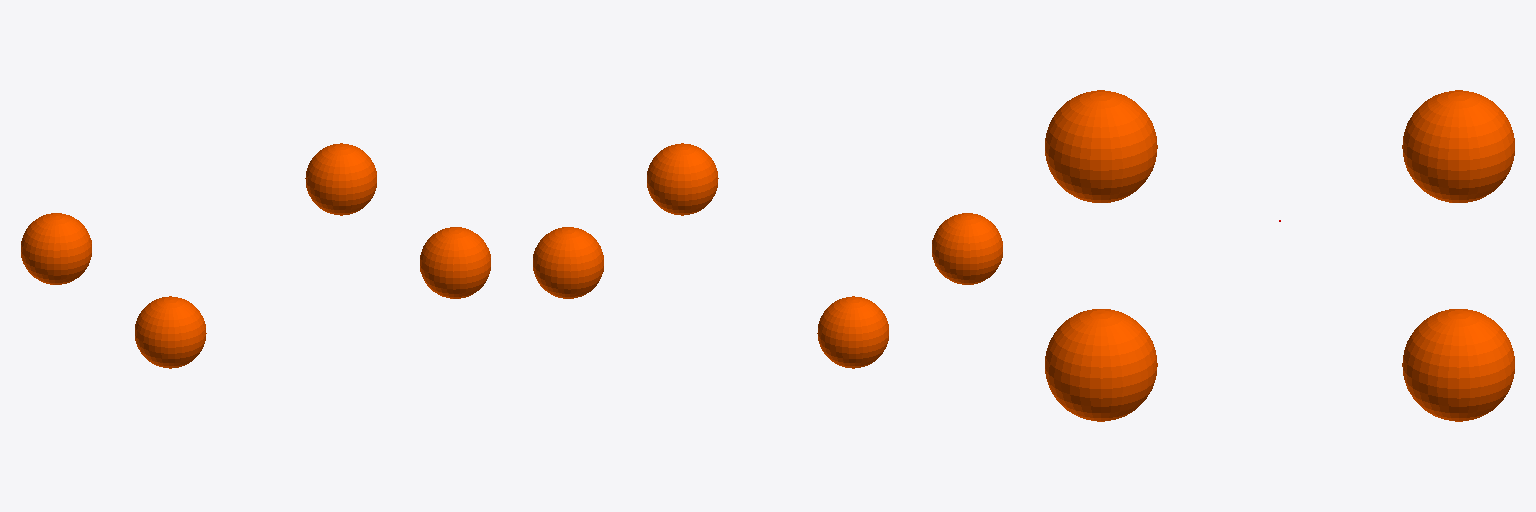
robot.urdf — youbot:
<?xml version="1.0" ?>
<!-- =================================================================================== -->
<!-- |    This document was autogenerated by xacro from robots/youbot_base_only.urdf.xacro | -->
<!-- |    EDITING THIS FILE BY HAND IS NOT RECOMMENDED                                 | -->
<!-- =================================================================================== -->
<robot name="youbot" xmlns:controller="http://playerstage.sourceforge.net/gazebo/xmlschema/#controller" xmlns:interface="http://playerstage.sourceforge.net/gazebo/xmlschema/#interface" xmlns:sensor="http://playerstage.sourceforge.net/gazebo/xmlschema/#sensor" xmlns:xacro="http://playerstage.sourceforge.net/gazebo/xmlschema/#interface">
  <!--property name="" value="0.360" /-->
  <gazebo>
    <plugin filename="libgazebo_ros_control.so" name="gazebo_ros_controller"/>
  </gazebo>
  <material name="Orange">
    <color rgba="1.0 0.4 0.0 1.0"/>
  </material>
  <material name="Grey">
    <color rgba="0.7 0.7 0.7 1.0"/>
  </material>
  <material name="DarkGrey">
    <color rgba="0.3 0.3 0.3 1.0"/>
  </material>
  <material name="White">
    <color rgba="1.0 1.0 1.0 1.0"/>
  </material>
  <material name="Black">
    <color rgba="0.0 0.0 0.0 1.0"/>
  </material>
  <material name="Red">
    <color rgba="1.0 0.0 0.0 1.0"/>
  </material>
  <material name="Green">
    <color rgba="0.0 1.0 0.0 1.0"/>
  </material>
  <material name="Blue">
    <color rgba="0.0 0.0 0.8 1.0"/>
  </material>
  <material name="LightGrey">
    <color rgba="0.82 0.82 0.82 1.0"/>
  </material>
  <!-- Now we can start using the macros xacro:included above to define the actual youbot -->
  <!-- The first use of a macro.  This one was defined in base.urdf.xacro above.
       A macro like this will expand to a set of link and joint definitions, and to additional
       Gazebo-related extensions (sensor plugins, etc).  The macro takes an argument, name, 
       that equals "base", and uses it to generate names for its component links and joints 
       (e.g., base_link).  The xacro:included origin block is also an argument to the macro.  By convention, 
       the origin block defines where the component is w.r.t its parent (in this case the parent 
       is the world frame). For more, see http://www.ros.org/wiki/xacro -->
  <link name="base_footprint">
    <inertial>
      <mass value="0.1"/>
      <origin rpy="0 0 0" xyz="0 0 -0.05"/>
      <inertia ixx="1.0" ixy="0.0" ixz="0.0" iyy="1.0" iyz="0.0" izz="1.0"/>
    </inertial>
    <visual>
      <origin rpy="0 0 0" xyz="0 0 0"/>
      <geometry>
        <box size="0.001 0.001 0.001"/>
      </geometry>
      <material name="Red"/>
    </visual>
    <collision>
      <origin rpy="0 0 0" xyz="0 0 -0.05"/>
      <geometry>
        <box size="0.001 0.001 0.001"/>
      </geometry>
    </collision>
  </link>
  <joint name="base_footprint_joint" type="fixed">
    <origin rpy="0 0 0" xyz="0 0 0"/>
    <child link="base_link"/>
    <parent link="base_footprint"/>
  </joint>
  <link name="base_link">
    <inertial>
      <mass value="22.0"/>
      <origin xyz="0 0 0"/>
      <inertia ixx="5.652232699207" ixy="-0.009719934438" ixz="1.293988226423" iyy="5.669473158652" iyz="-0.007379583694" izz="3.683196351726"/>
    </inertial>
    <visual>
      <origin rpy="0 0 0" xyz="0 0 0"/>
      <geometry>
        <mesh filename="meshes/youbot_base/base.dae"/>
      </geometry>
      <material name="DarkGrey"/>
    </visual>
    <collision>
      <origin rpy="0 0 0" xyz="0 0 0"/>
      <geometry>
        <!--<box size="${base_size_x} ${base_size_y} ${base_size_z}" />-->
        <mesh filename="meshes/youbot_base/base_convex.dae"/>
      </geometry>
    </collision>
  </link>
  <!-- front left wheel -->
  <joint name="caster_joint_fl" type="continuous">
    <origin rpy="0 0 0" xyz="0.228 0.158 -0.034"/>
    <axis xyz="0 0 1"/>
    <limit effort="30" velocity="10"/>
    <dynamics damping="1.0" friction="1.0"/>
    <safety_controller k_velocity="10.0"/>
    <parent link="base_link"/>
    <child link="caster_link_fl"/>
  </joint>
  <link name="caster_link_fl">
    <inertial>
      <mass value="0.1"/>
      <origin xyz="0 0 0"/>
      <inertia ixx="0.012411765597" ixy="-0.000711733678" ixz="0.00050272983" iyy="0.015218160428" iyz="-0.000004273467" izz="0.011763977943"/>
    </inertial>
  </link>
  <joint name="wheel_joint_fl" type="continuous">
    <axis xyz="0 1 0"/>
    <limit effort="30" velocity="10"/>
    <origin rpy="0 0 0" xyz="0.0 0.0 0.0"/>
    <parent link="caster_link_fl"/>
    <dynamics damping="1.0" friction="1.0"/>
    <safety_controller k_velocity="10.0"/>
    <child link="wheel_link_fl"/>
  </joint>
  <link name="wheel_link_fl">
    <inertial>
      <mass value="0.4"/>
      <origin xyz="0 0 0"/>
      <inertia ixx="0.012411765597" ixy="-0.000711733678" ixz="0.00050272983" iyy="0.015218160428" iyz="-0.000004273467" izz="0.011763977943"/>
    </inertial>
    <visual>
      <origin rpy="0 0 0" xyz="0 0 0"/>
      <!--<mesh filename="meshes/youbot_base/youbot_wheel.stl" />-->
      <geometry>
        <sphere radius="0.05"/>
      </geometry>
      <material name="Orange"/>
    </visual>
    <collision>
      <origin rpy="1.57079632679 0 0" xyz="0 0 0"/>
      <geometry>
        <cylinder length="0.05" radius="0.05"/>
      </geometry>
    </collision>
  </link>
  <!-- front right wheel -->
  <joint name="caster_joint_fr" type="continuous">
    <origin rpy="0 0 0" xyz="0.228 -0.158 -0.034"/>
    <axis xyz="0 0 1"/>
    <limit effort="30" velocity="10"/>
    <dynamics damping="1.0" friction="1.0"/>
    <safety_controller k_velocity="10.0"/>
    <parent link="base_link"/>
    <child link="caster_link_fr"/>
  </joint>
  <link name="caster_link_fr">
    <inertial>
      <mass value="0.1"/>
      <origin xyz="0 0 0"/>
      <inertia ixx="0.012411765597" ixy="-0.000711733678" ixz="0.00050272983" iyy="0.015218160428" iyz="-0.000004273467" izz="0.011763977943"/>
    </inertial>
  </link>
  <joint name="wheel_joint_fr" type="continuous">
    <axis xyz="0 1 0"/>
    <limit effort="30" velocity="10"/>
    <dynamics damping="1.0" friction="1.0"/>
    <safety_controller k_velocity="10.0"/>
    <origin rpy="0 0 0" xyz="0.0 0.0 0.0"/>
    <parent link="caster_link_fr"/>
    <child link="wheel_link_fr"/>
  </joint>
  <link name="wheel_link_fr">
    <inertial>
      <mass value="0.4"/>
      <origin xyz="0 0 0"/>
      <inertia ixx="0.012411765597" ixy="-0.000711733678" ixz="0.00050272983" iyy="0.015218160428" iyz="-0.000004273467" izz="0.011763977943"/>
    </inertial>
    <visual>
      <origin rpy="0 0 0" xyz="0 0 0"/>
      <geometry>
        <!--<mesh filename="meshes/youbot_base/youbot_wheel.stl" />-->
        <sphere radius="0.05"/>
      </geometry>
      <material name="Orange"/>
    </visual>
    <collision>
      <origin rpy="1.57079632679 0 0" xyz="0 0 0"/>
      <geometry>
        <cylinder length="0.05" radius="0.05"/>
      </geometry>
    </collision>
  </link>
  <!-- back left wheel -->
  <joint name="caster_joint_bl" type="continuous">
    <origin rpy="0 0 0" xyz="-0.228 0.158 -0.034"/>
    <axis xyz="0 0 1"/>
    <limit effort="30" velocity="10"/>
    <dynamics damping="1.0" friction="1.0"/>
    <safety_controller k_velocity="10.0"/>
    <parent link="base_link"/>
    <child link="caster_link_bl"/>
  </joint>
  <link name="caster_link_bl">
    <inertial>
      <mass value="0.1"/>
      <origin xyz="0 0 0"/>
      <inertia ixx="0.012411765597" ixy="-0.000711733678" ixz="0.00050272983" iyy="0.015218160428" iyz="-0.000004273467" izz="0.011763977943"/>
    </inertial>
  </link>
  <joint name="wheel_joint_bl" type="continuous">
    <axis xyz="0 1 0"/>
    <limit effort="10" velocity="10"/>
    <limit effort="30" velocity="10"/>
    <dynamics damping="1.0" friction="1.0"/>
    <safety_controller k_velocity="10.0"/>
    <origin rpy="0 0 0" xyz="0.0 0.0 0.0"/>
    <parent link="caster_link_bl"/>
    <child link="wheel_link_bl"/>
  </joint>
  <link name="wheel_link_bl">
    <inertial>
      <mass value="0.4"/>
      <origin xyz="0 0 0"/>
      <inertia ixx="0.012411765597" ixy="-0.000711733678" ixz="0.00050272983" iyy="0.015218160428" iyz="-0.000004273467" izz="0.011763977943"/>
    </inertial>
    <visual>
      <origin rpy="0 0 0" xyz="0 0 0"/>
      <geometry>
        <!--<mesh filename="meshes/youbot_base/youbot_wheel.stl" />-->
        <sphere radius="0.05"/>
      </geometry>
      <material name="Orange"/>
    </visual>
    <collision>
      <origin rpy="1.57079632679 0 0" xyz="0 0 0"/>
      <geometry>
        <cylinder length="0.05" radius="0.05"/>
      </geometry>
    </collision>
  </link>
  <!-- back right wheel -->
  <joint name="caster_joint_br" type="continuous">
    <origin rpy="0 0 0" xyz="-0.228 -0.158 -0.034"/>
    <axis xyz="0 0 1"/>
    <limit effort="30" velocity="10"/>
    <dynamics damping="1.0" friction="1.0"/>
    <safety_controller k_velocity="10.0"/>
    <parent link="base_link"/>
    <child link="caster_link_br"/>
  </joint>
  <link name="caster_link_br">
    <inertial>
      <mass value="0.1"/>
      <origin xyz="0 0 0"/>
      <inertia ixx="0.012411765597" ixy="-0.000711733678" ixz="0.00050272983" iyy="0.015218160428" iyz="-0.000004273467" izz="0.011763977943"/>
    </inertial>
  </link>
  <joint name="wheel_joint_br" type="continuous">
    <axis xyz="0 1 0"/>
    <limit effort="30" velocity="10"/>
    <dynamics damping="1.0" friction="1.0"/>
    <safety_controller k_velocity="10.0"/>
    <origin rpy="0 0 0" xyz="0.0 0.0 0.0"/>
    <parent link="caster_link_br"/>
    <child link="wheel_link_br"/>
  </joint>
  <link name="wheel_link_br">
    <inertial>
      <mass value="0.4"/>
      <origin xyz="0 0 0"/>
      <inertia ixx="0.012411765597" ixy="-0.000711733678" ixz="0.00050272983" iyy="0.015218160428" iyz="-0.000004273467" izz="0.011763977943"/>
    </inertial>
    <visual>
      <origin rpy="0 0 0" xyz="0 0 0"/>
      <geometry>
        <!--<mesh filename="meshes/youbot_base/youbot_wheel.stl" />-->
        <sphere radius="0.05"/>
      </geometry>
      <material name="Orange"/>
    </visual>
    <collision>
      <origin rpy="1.57079632679 0 0" xyz="0 0 0"/>
      <geometry>
        <cylinder length="0.05" radius="0.05"/>
      </geometry>
    </collision>
  </link>
  <gazebo reference="youbot_base">
    <material value="youbot/DarkGrey"/>
  </gazebo>
  <!-- front left wheel -->
  <gazebo reference="wheel_link_fl">
    <material value="youbot/Orange"/>
    <kp>1000000</kp>
    <kd>100</kd>
  </gazebo>
  <gazebo reference="caster_link_fl">
    <material value="youbot/Orange"/>
  </gazebo>
  <!-- front right wheel -->
  <gazebo reference="wheel_link_fr">
    <material value="youbot/Orange"/>
    <kp>1000000</kp>
    <kd>100</kd>
  </gazebo>
  <gazebo reference="caster_link_fr">
    <material value="youbot/Orange"/>
  </gazebo>
  <!-- back left wheel -->
  <gazebo reference="wheel_link_bl">
    <material value="youbot/Orange"/>
    <kp>1000000</kp>
    <kd>100</kd>
  </gazebo>
  <gazebo reference="caster_link_bl">
    <material value="youbot/Orange"/>
  </gazebo>
  <!-- back right wheel -->
  <gazebo reference="wheel_link_br">
    <material value="youbot/Orange"/>
    <kp>1000000</kp>
    <kd>100</kd>
  </gazebo>
  <gazebo reference="caster_link_br">
    <material value="youbot/Orange"/>
  </gazebo>
  <!-- position controller -->
  <gazebo>
    <plugin filename="libgazebo_ros_planar_move.so" name="base_controller">
      <commandTopic>cmd_vel</commandTopic>
      <odometryTopic>odom</odometryTopic>
      <odometryFrame>odom</odometryFrame>
      <odometryRate>100.0</odometryRate>
      <robotBaseFrame>base_footprint</robotBaseFrame>
    </plugin>
  </gazebo>
  <!-- front left wheel -->
  <transmission name="wheel_trans_fl">
    <type>transmission_interface/SimpleTransmission</type>
    <actuator name="wheel_motor_fl">
      <hardwareInterface>VelocityJointInterface</hardwareInterface>
      <mechanicalReduction>79.2380952381</mechanicalReduction>
    </actuator>
    <joint name="wheel_joint_fl">
      <hardwareInterface>VelocityJointInterface</hardwareInterface>
    </joint>
  </transmission>
  <transmission name="caster_trans_fl">
    <type>transmission_interface/SimpleTransmission</type>
    <actuator name="caster_motor_fl">
      <hardwareInterface>VelocityJointInterface</hardwareInterface>
      <mechanicalReduction>79.2380952381</mechanicalReduction>
    </actuator>
    <joint name="caster_joint_fl">
      <hardwareInterface>VelocityJointInterface</hardwareInterface>
    </joint>
  </transmission>
  <!-- front right wheel -->
  <transmission name="wheel_trans_fr">
    <type>transmission_interface/SimpleTransmission</type>
    <actuator name="wheel_motor_fr">
      <hardwareInterface>VelocityJointInterface</hardwareInterface>
      <mechanicalReduction>79.2380952381</mechanicalReduction>
    </actuator>
    <joint name="wheel_joint_fr">
      <hardwareInterface>VelocityJointInterface</hardwareInterface>
    </joint>
  </transmission>
  <transmission name="caster_trans_fr">
    <type>transmission_interface/SimpleTransmission</type>
    <actuator name="caster_motor_fr">
      <hardwareInterface>VelocityJointInterface</hardwareInterface>
      <mechanicalReduction>79.2380952381</mechanicalReduction>
    </actuator>
    <joint name="caster_joint_fr">
      <hardwareInterface>VelocityJointInterface</hardwareInterface>
    </joint>
  </transmission>
  <!-- back left wheel -->
  <transmission name="wheel_trans_bl">
    <type>transmission_interface/SimpleTransmission</type>
    <actuator name="wheel_motor_bl">
      <hardwareInterface>VelocityJointInterface</hardwareInterface>
      <mechanicalReduction>79.2380952381</mechanicalReduction>
    </actuator>
    <joint name="wheel_joint_bl">
      <hardwareInterface>VelocityJointInterface</hardwareInterface>
    </joint>
  </transmission>
  <transmission name="caster_trans_bl">
    <type>transmission_interface/SimpleTransmission</type>
    <actuator name="caster_motor_bl">
      <hardwareInterface>VelocityJointInterface</hardwareInterface>
      <mechanicalReduction>79.2380952381</mechanicalReduction>
    </actuator>
    <joint name="caster_joint_bl">
      <hardwareInterface>VelocityJointInterface</hardwareInterface>
    </joint>
  </transmission>
  <!-- back right wheel -->
  <transmission name="wheel_trans_br">
    <type>transmission_interface/SimpleTransmission</type>
    <actuator name="wheel_motor_br">
      <hardwareInterface>VelocityJointInterface</hardwareInterface>
      <mechanicalReduction>79.2380952381</mechanicalReduction>
    </actuator>
    <joint name="wheel_joint_br">
      <hardwareInterface>VelocityJointInterface</hardwareInterface>
    </joint>
  </transmission>
  <transmission name="caster_trans_br">
    <type>transmission_interface/SimpleTransmission</type>
    <actuator name="caster_motor_br">
      <hardwareInterface>VelocityJointInterface</hardwareInterface>
      <mechanicalReduction>79.2380952381</mechanicalReduction>
    </actuator>
    <joint name="caster_joint_br">
      <hardwareInterface>VelocityJointInterface</hardwareInterface>
    </joint>
  </transmission>
  <joint name="base_laser_front_hokuyo_urg04_laser_joint" type="fixed">
    <axis xyz="0 1 0"/>
    <origin rpy="0 0 0" xyz="0.3 0 -0.03"/>
    <parent link="base_link"/>
    <child link="base_laser_front_link"/>
  </joint>
  <link name="base_laser_front_link" type="laser">
    <inertial>
      <mass value="0.16"/>
      <origin rpy="0 0 0" xyz="0 0 0"/>
      <inertia ixx="0.1" ixy="0" ixz="0" iyy="0.1" iyz="0" izz="0.1"/>
    </inertial>
    <visual>
      <origin rpy="0 0 0" xyz="0 0 0"/>
      <geometry>
        <mesh filename="meshes/sensors/hokuyo.dae"/>
      </geometry>
      <material name="DarkGrey"/>
    </visual>
    <collision>
      <origin rpy="0 0 0" xyz="0 0 0"/>
      <geometry>
        <mesh filename="meshes/sensors/hokuyo_convex.dae"/>
      </geometry>
    </collision>
  </link>
  <gazebo reference="base_laser_front_link">
    <sensor name="base_laser_front" type="ray">
      <always_on>true</always_on>
      <update_rate>10</update_rate>
      <pose>0 0 0 0 0 0</pose>
      <visualize>false</visualize>
      <ray>
        <scan>
          <horizontal>
            <samples>150</samples>
            <resolution>1.0</resolution>
            <min_angle>-1.57</min_angle>
            <max_angle>1.57</max_angle>
          </horizontal>
        </scan>
        <range>
          <min>0.05</min>
          <max>5.6</max>
          <resolution>0.36</resolution>
        </range>
      </ray>
      <plugin filename="libgazebo_ros_laser.so" name="gazebo_ros_base_laser_front_controller">
        <gaussianNoise>0.005</gaussianNoise>
        <alwaysOn>true</alwaysOn>
        <updateRate>10</updateRate>
        <topicName>base_scan</topicName>
        <frameName>/base_laser_front_link</frameName>
      </plugin>
    </sensor>
  </gazebo>
</robot>

--- Facts derived from the render (not from the file) ---
The picture shows the robot from 3 angles, left to right: view 1: azimuth 30°, elevation 25°; view 2: azimuth 150°, elevation 25°; view 3: azimuth 270°, elevation 25°; orthographic projection.
Robot: youbot — 11 links, 10 joints (8 continuous, 2 fixed); root link base_footprint; default pose: every joint at zero.
Links seen in each view (by area): view 1: wheel_link_fr, wheel_link_bl, wheel_link_fl, wheel_link_br; view 2: wheel_link_fl, wheel_link_br, wheel_link_fr, wheel_link_bl; view 3: wheel_link_fl, wheel_link_fr, wheel_link_bl, wheel_link_br.
Link boxes in pixels (x1=…): wheel_link_fr: x1=420, y1=227, x2=490, y2=298; wheel_link_bl: x1=21, y1=213, x2=91, y2=284; wheel_link_fl: x1=305, y1=143, x2=376, y2=215; wheel_link_br: x1=135, y1=296, x2=206, y2=368; wheel_link_fl: x1=533, y1=227, x2=603, y2=298; wheel_link_br: x1=932, y1=213, x2=1002, y2=284; wheel_link_fr: x1=647, y1=143, x2=718, y2=215; wheel_link_bl: x1=817, y1=296, x2=888, y2=368; wheel_link_fl: x1=1402, y1=309, x2=1514, y2=421; wheel_link_fr: x1=1045, y1=309, x2=1157, y2=421; wheel_link_bl: x1=1402, y1=90, x2=1514, y2=202; wheel_link_br: x1=1045, y1=90, x2=1157, y2=202.
Bounding box of the posed robot: 0.556 × 0.416 × 0.1 m (x, y, z).
Meshes: 2 distinct files referenced, 0 mesh visuals loaded (none loaded); not drawn: 2 (reference not matched to a file when rendering).
